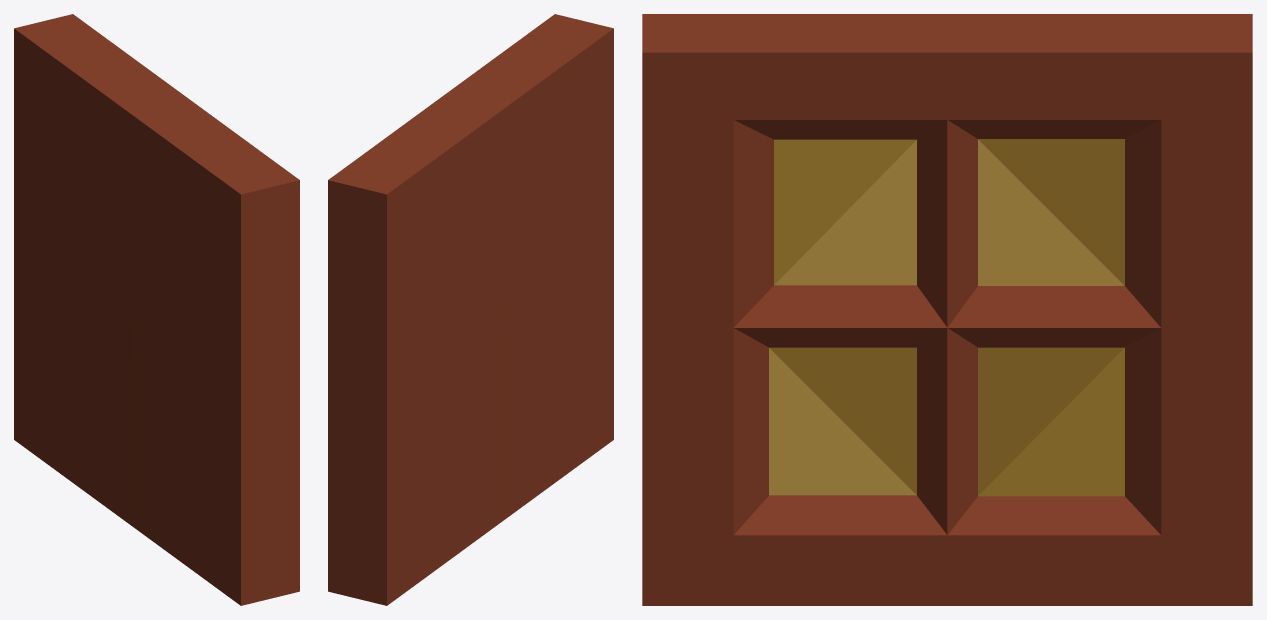
The model's file is Window.fbx.
3 renders of one model, left to right at view 1: azimuth 30°, elevation 25°; view 2: azimuth 150°, elevation 25°; view 3: azimuth 270°, elevation 25°, orthographic. The views are drawn at different scales.
Visible parts, largest first — view 1: pCube27; view 2: pCube27; view 3: pCube27.
Boxes of the visible parts, x1=… form: pCube27: x1=14, y1=14, x2=299, y2=605; pCube27: x1=328, y1=14, x2=613, y2=605; pCube27: x1=642, y1=14, x2=1252, y2=605.
Size of the model in its own units: 30 by 200 by 200.
